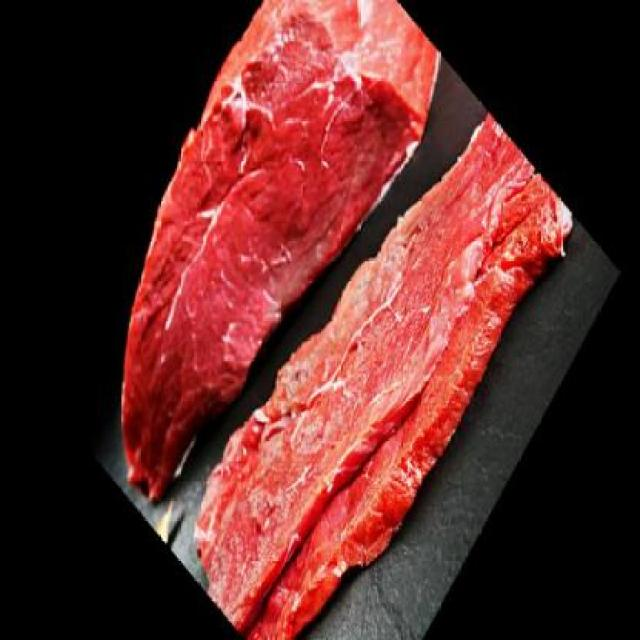beef: (169, 107, 577, 639), (110, 0, 458, 498)
